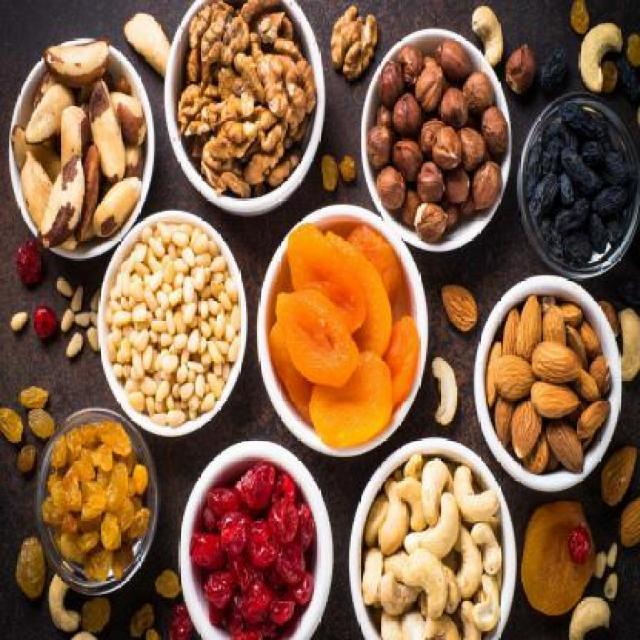Frutta secca: (7, 34, 148, 260), (354, 452, 498, 640), (100, 236, 228, 418), (368, 40, 496, 222), (192, 4, 310, 198), (495, 291, 611, 472), (333, 8, 376, 66), (431, 356, 462, 429), (441, 280, 481, 334), (471, 10, 506, 66), (509, 50, 534, 96)
